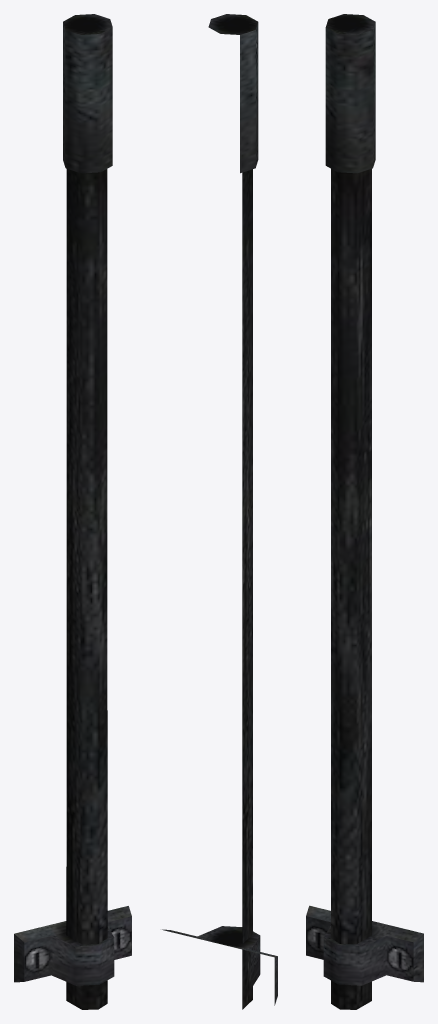
The model's file is bunker_pipe_short.glb.
The picture shows the model from 3 angles, left to right: view 1: azimuth 30°, elevation 25°; view 2: azimuth 150°, elevation 25°; view 3: azimuth 330°, elevation 25°; orthographic projection.
Size of the model in its own units: 3.62 by 29.45 by 1.59.
1 material, 1 textured.
